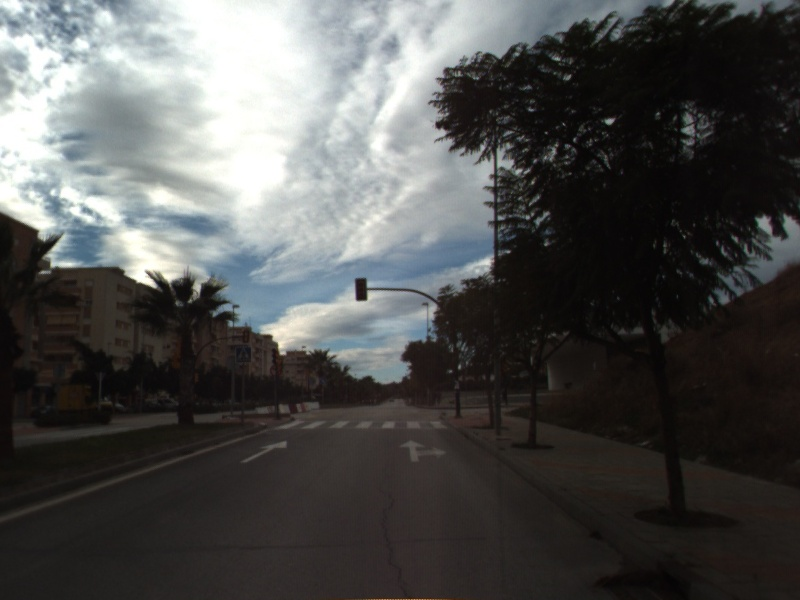STRAIGHT: (238, 439, 289, 465)
STRAIGHT_RIGHT: (396, 437, 449, 464)
